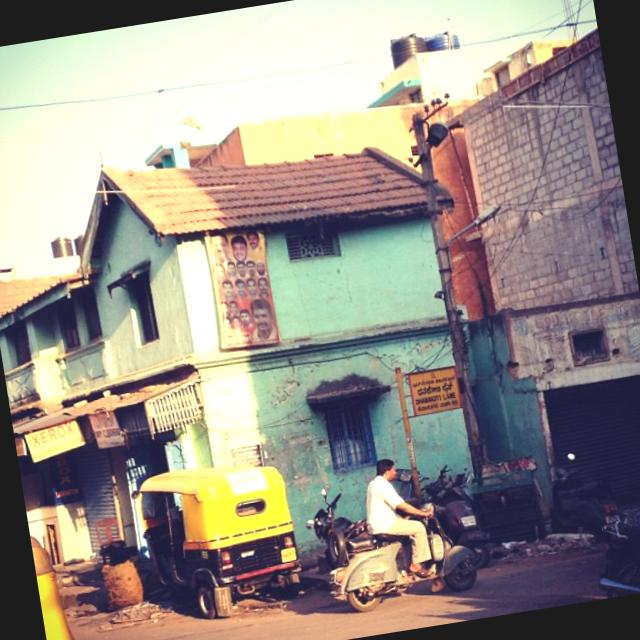Vehicle: (137, 453, 310, 630), (321, 494, 484, 618), (302, 478, 374, 574), (439, 480, 494, 572)
